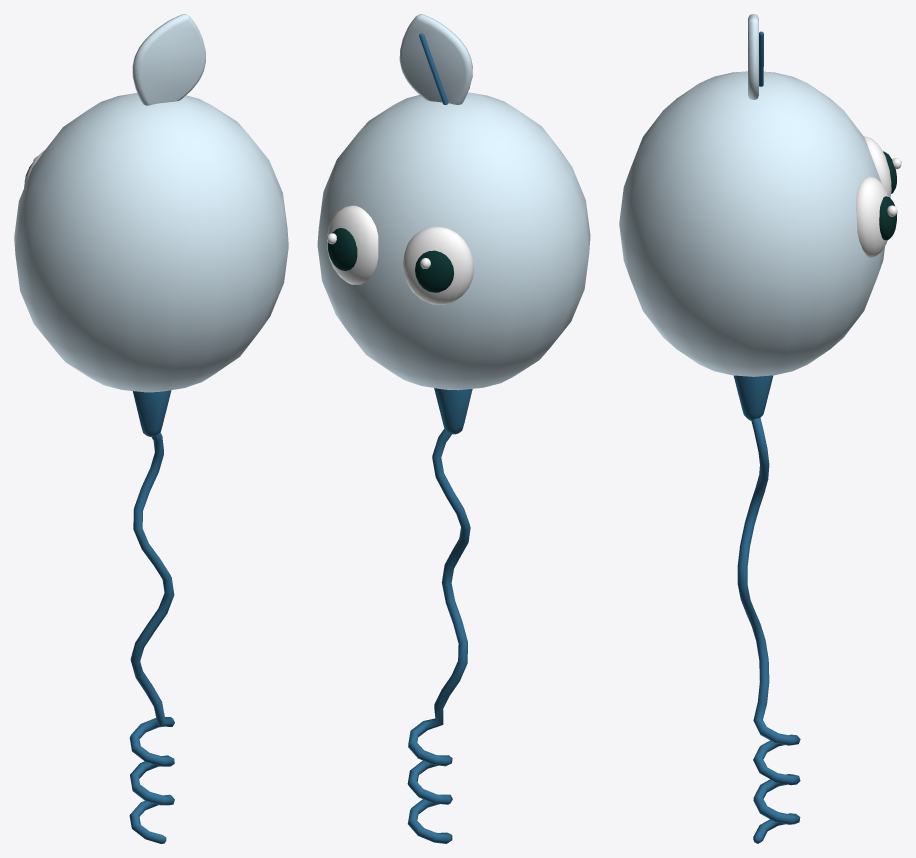
Rendered from Boss_Gardien_Glaciers_Glace_Projectile_Invoc.fbx.
3 renders of one model, left to right at view 1: azimuth 30°, elevation 25°; view 2: azimuth 150°, elevation 25°; view 3: azimuth 270°, elevation 25°, orthographic.
Visible parts, largest first — view 1: Boss_Gardien_Glaciers_Glace_Projectile_Invoc; view 2: Boss_Gardien_Glaciers_Glace_Projectile_Invoc; view 3: Boss_Gardien_Glaciers_Glace_Projectile_Invoc.
Part boxes in pixels (bbox=[...]): Boss_Gardien_Glaciers_Glace_Projectile_Invoc: bbox=[14, 14, 288, 843]; Boss_Gardien_Glaciers_Glace_Projectile_Invoc: bbox=[317, 14, 590, 843]; Boss_Gardien_Glaciers_Glace_Projectile_Invoc: bbox=[619, 14, 901, 843].
Bounding box in the file's own units: 0.76 × 2.47 × 0.7573.
Materials: 1 (1 with a texture image).
